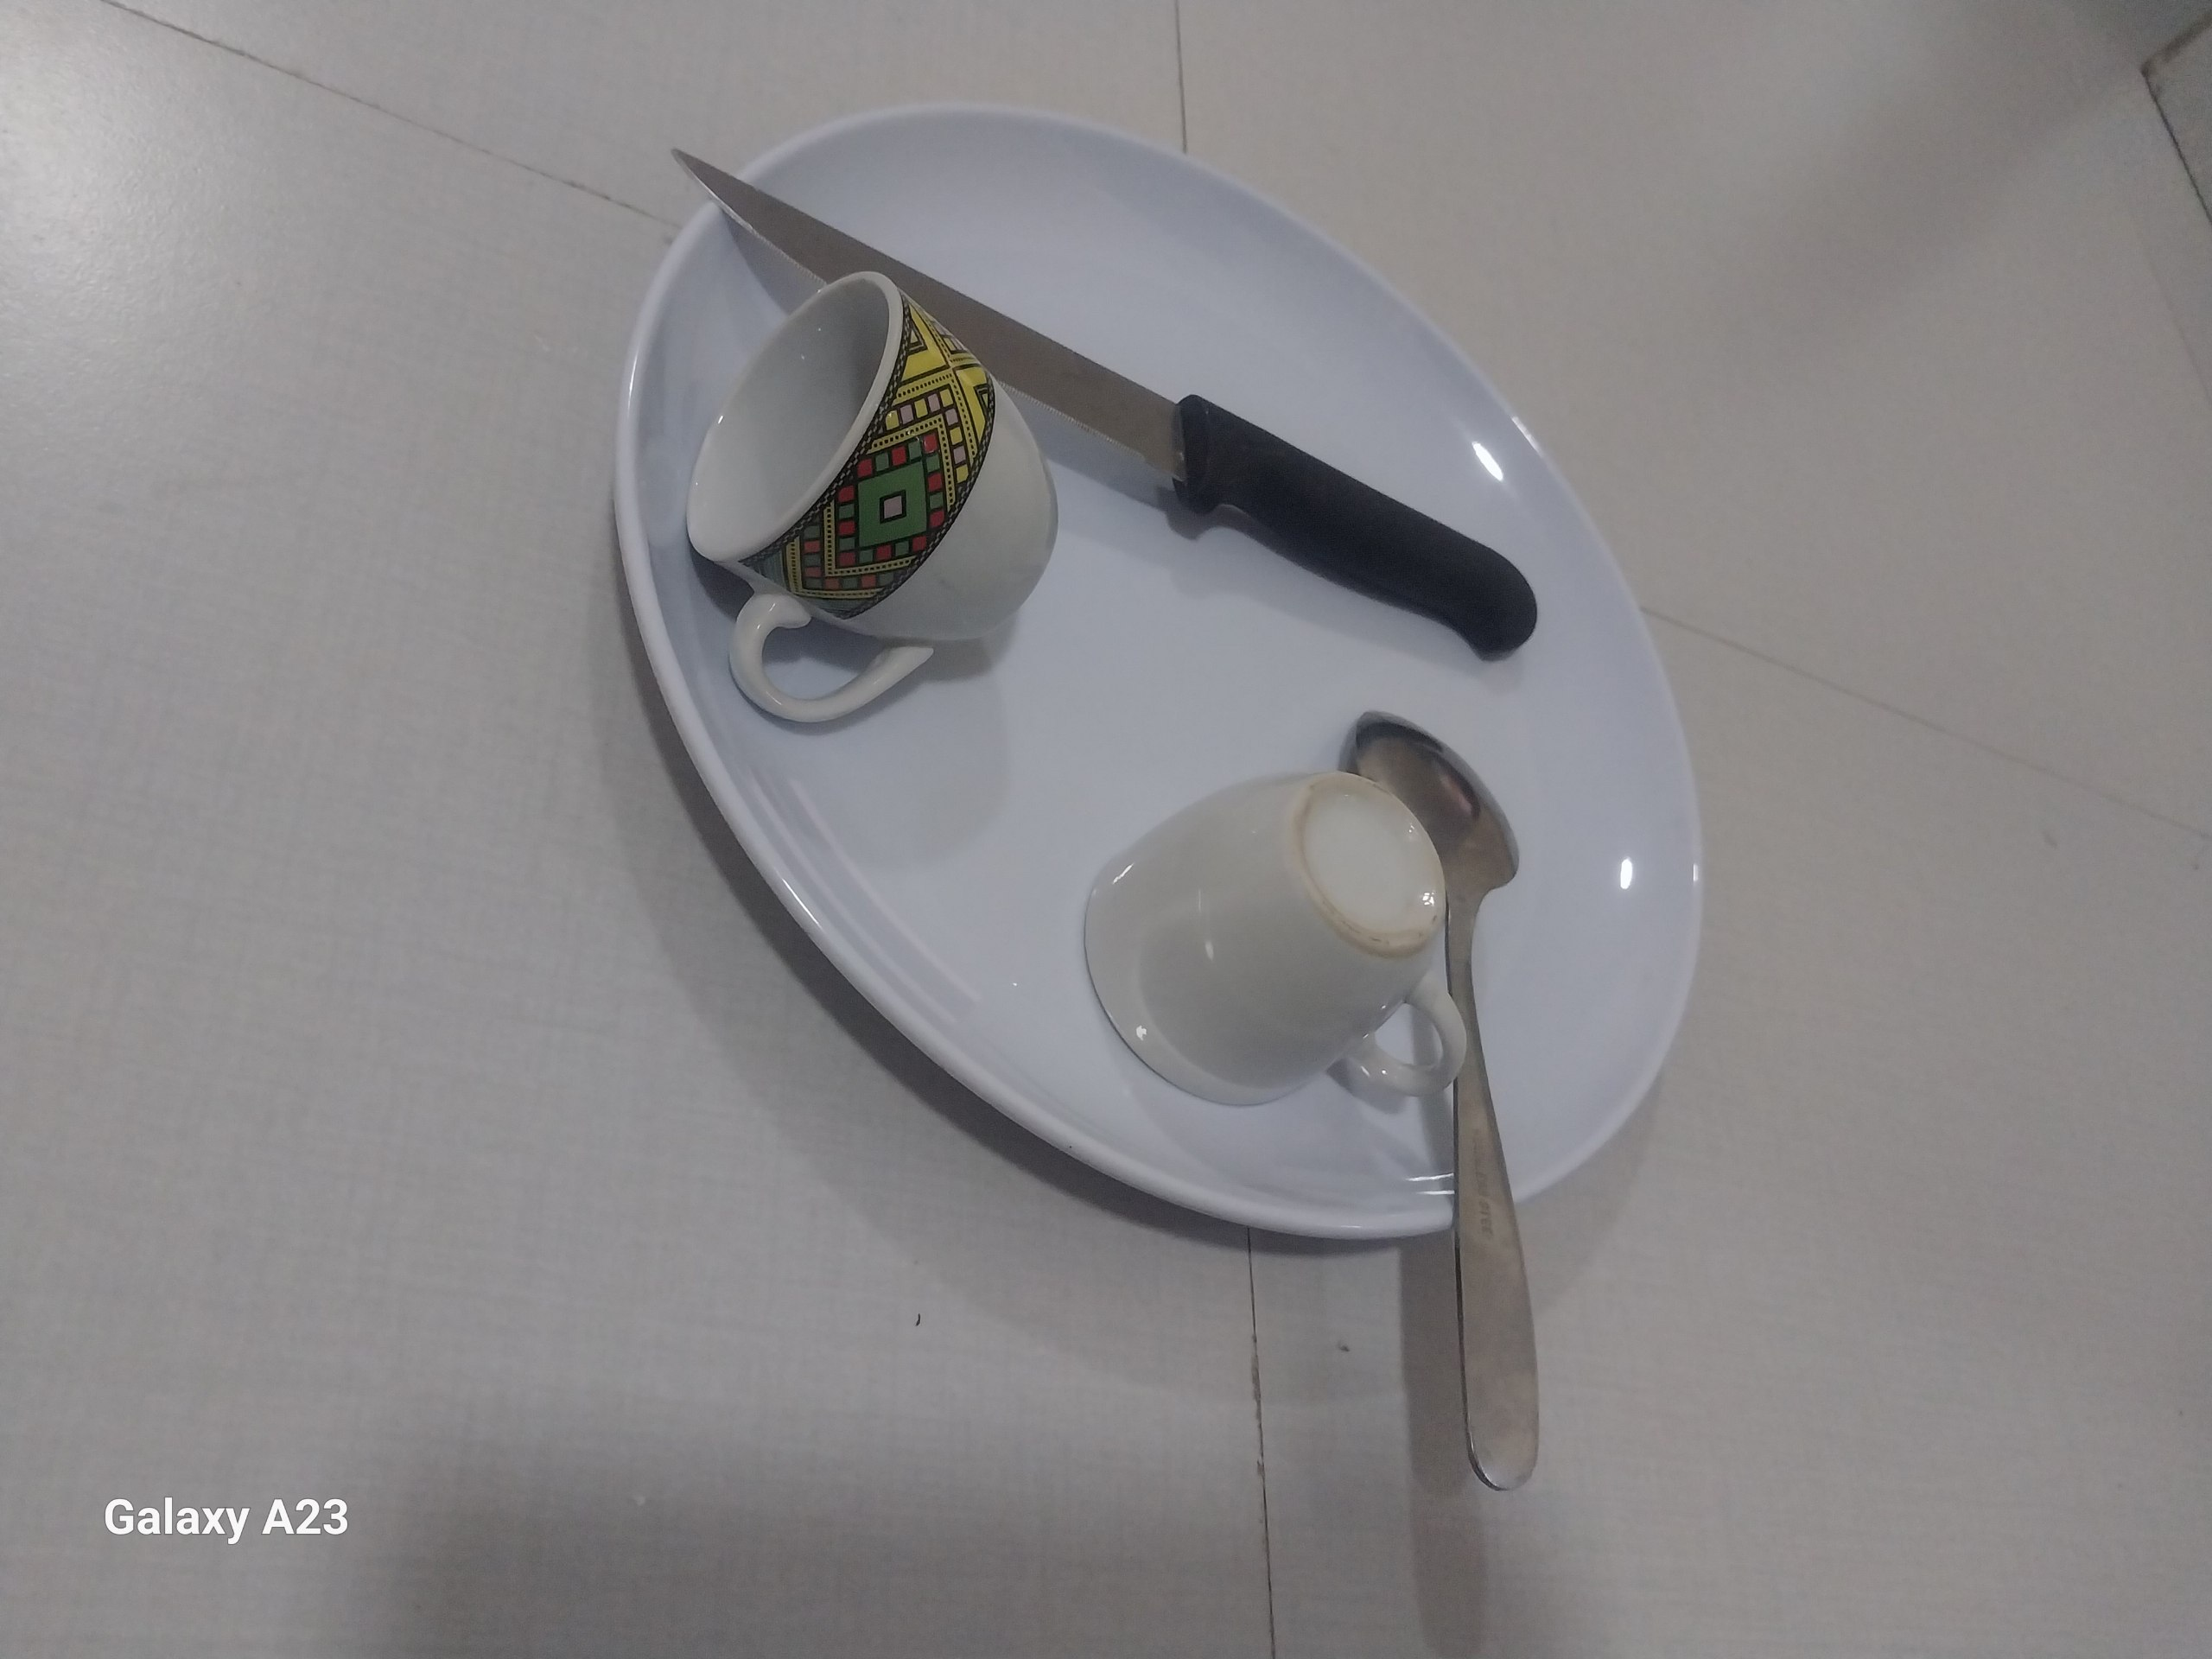Cup: (691, 272, 1069, 728), (1083, 762, 1463, 1110)
Knife: (658, 139, 1557, 669)
Plate: (620, 92, 1698, 1239)
Spoon: (1345, 699, 1543, 1490)
